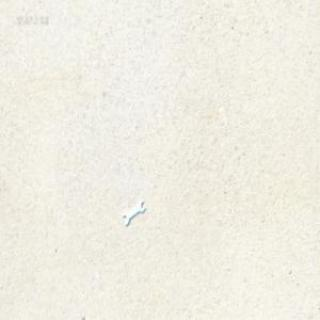Wrenchtrack_idkeyframe: (122, 200, 144, 227)
